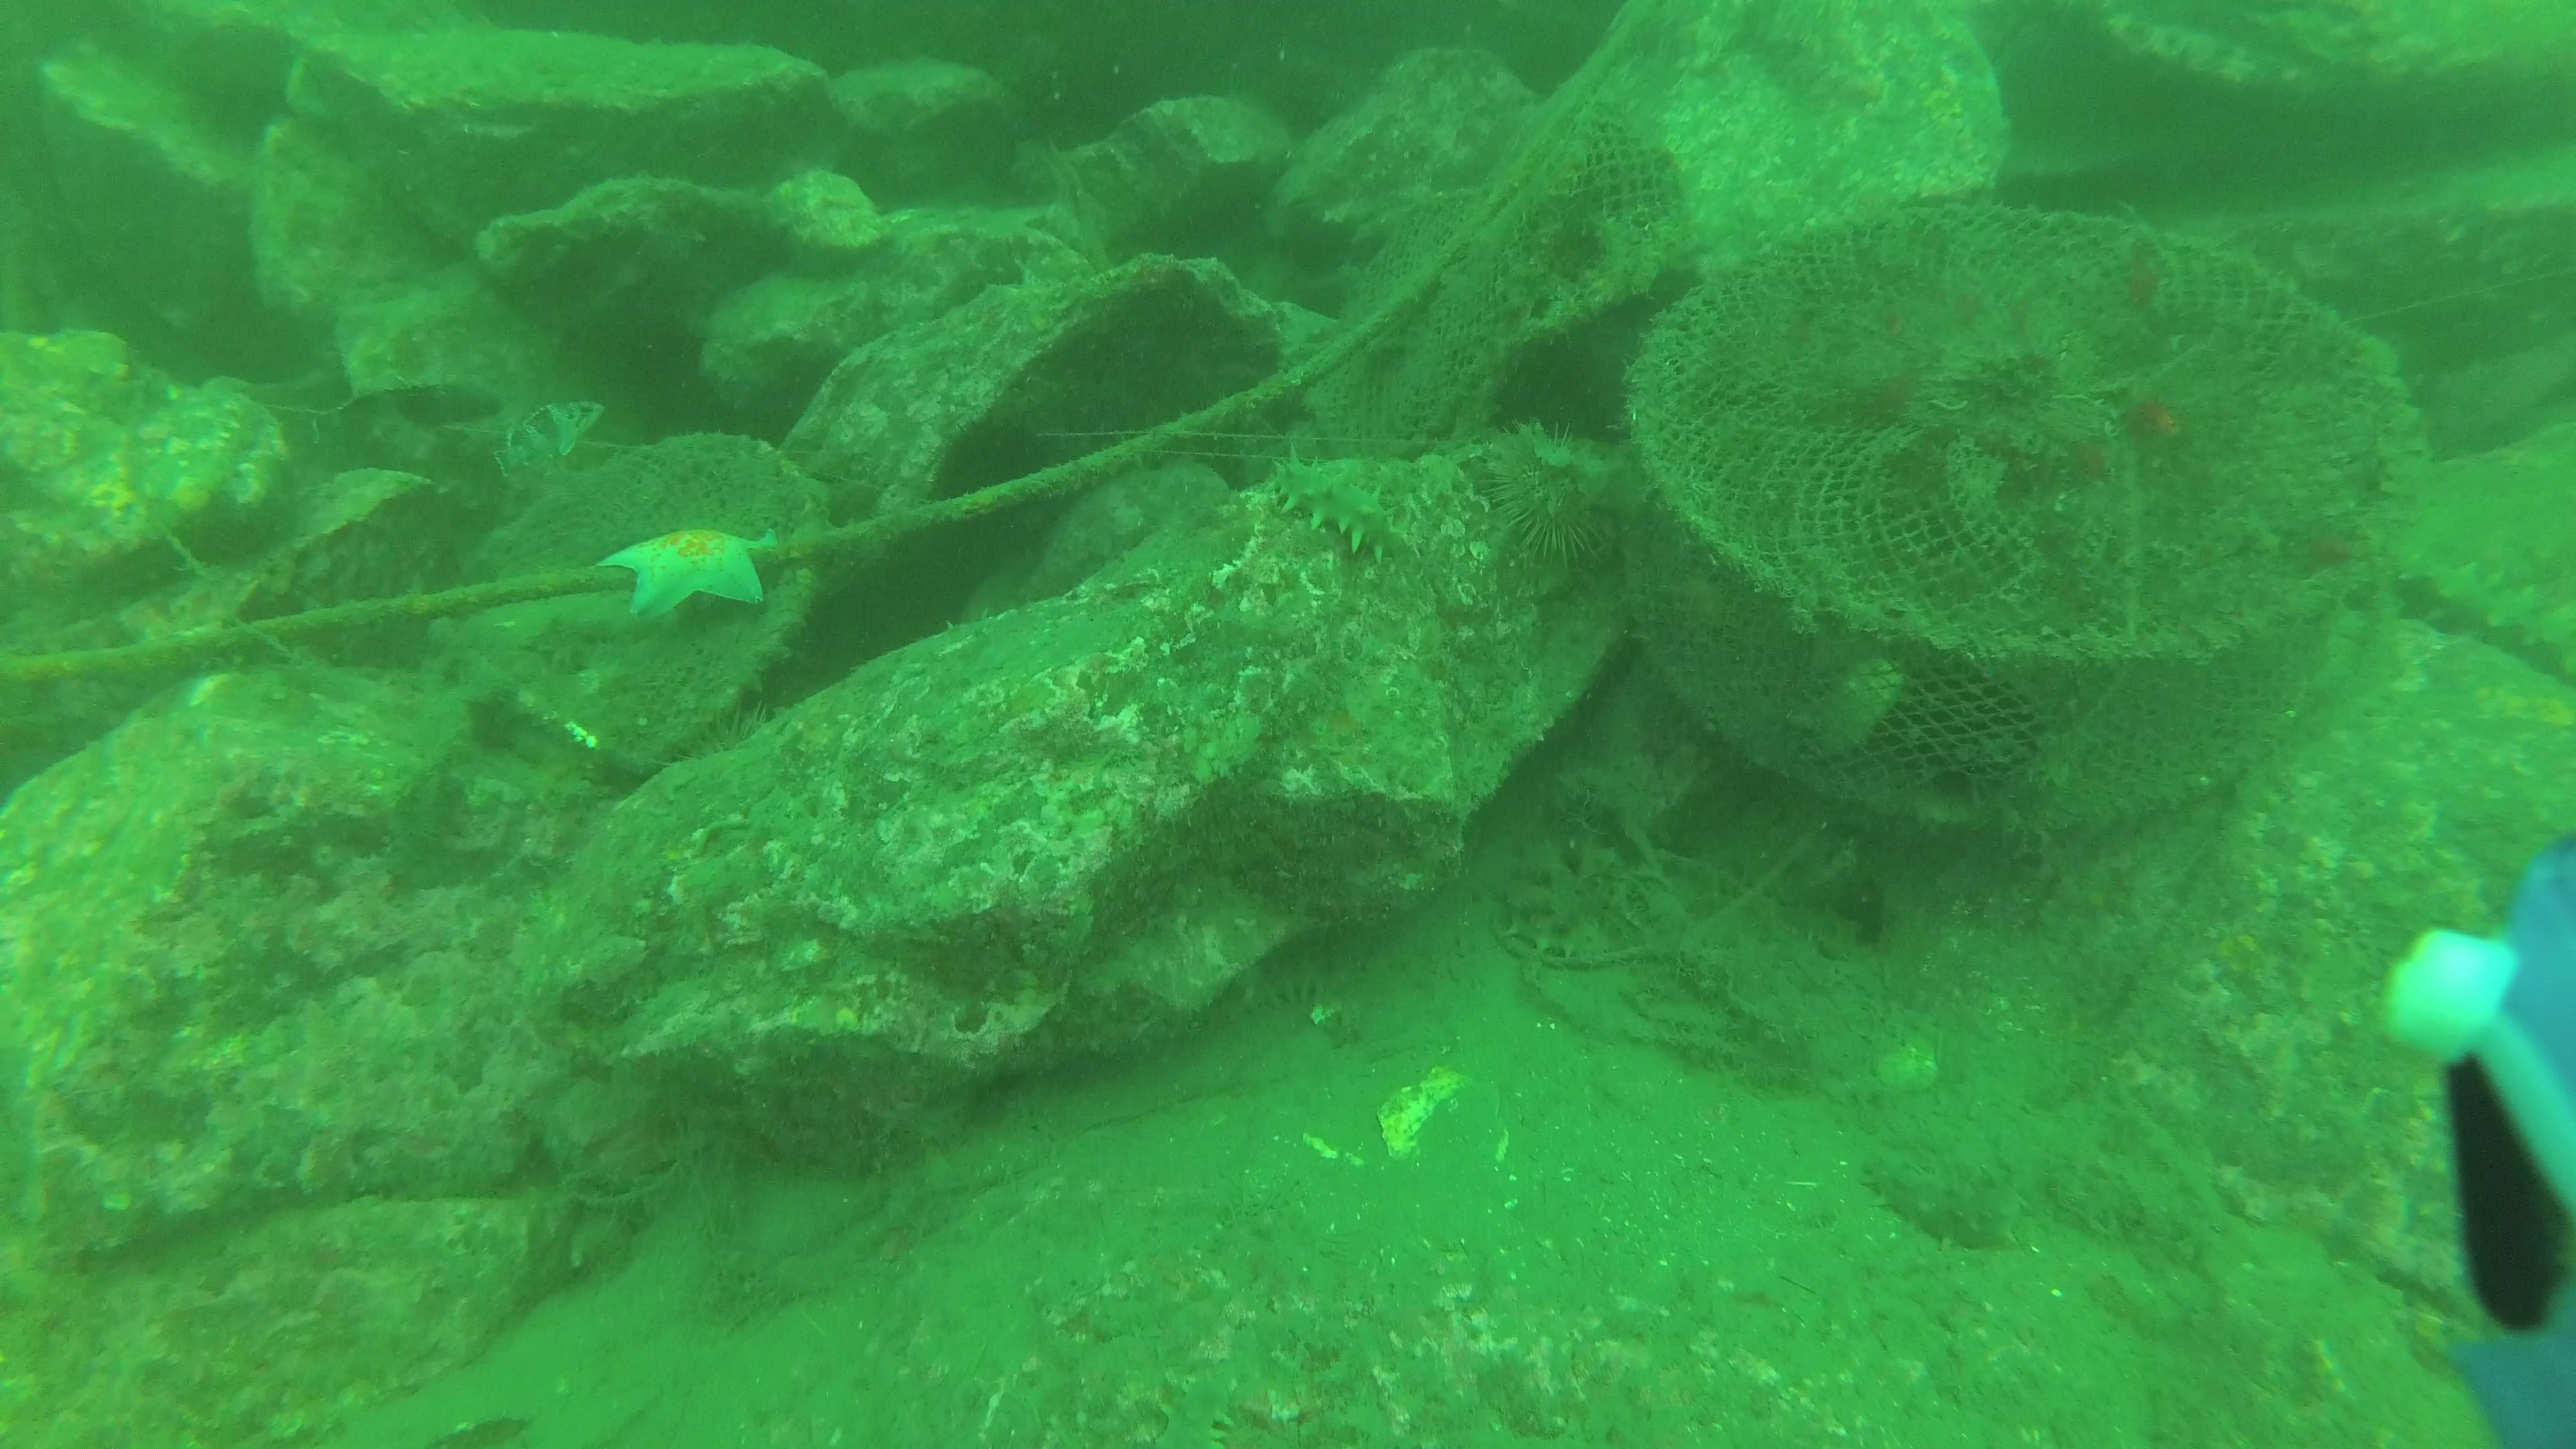echinus: (1483, 421, 1617, 571)
holothurian: (1260, 446, 1407, 571)
starfish: (591, 524, 786, 619)
